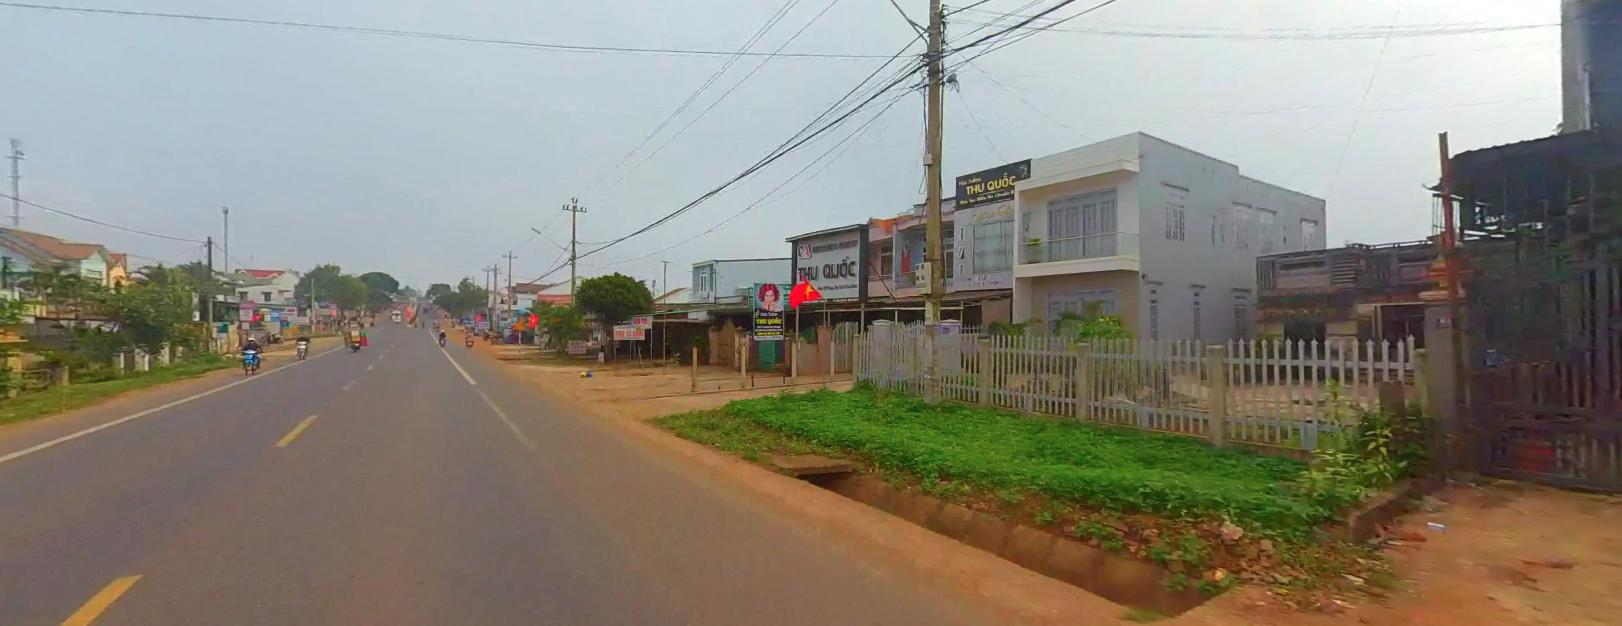Nguy hiem: (511, 316, 525, 330)
